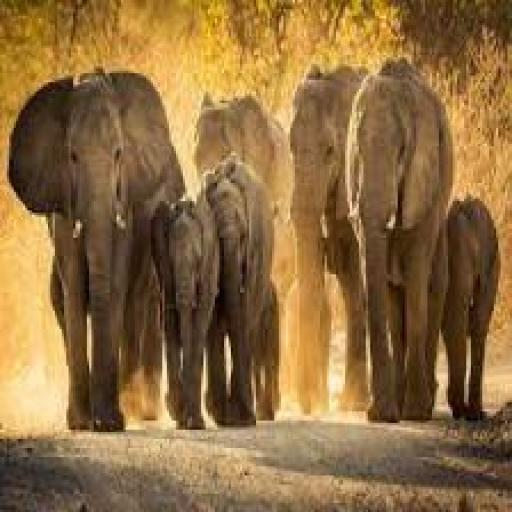Elephant: (4, 53, 214, 456), (325, 46, 473, 418), (263, 62, 410, 430), (149, 183, 288, 484), (428, 169, 508, 448)
